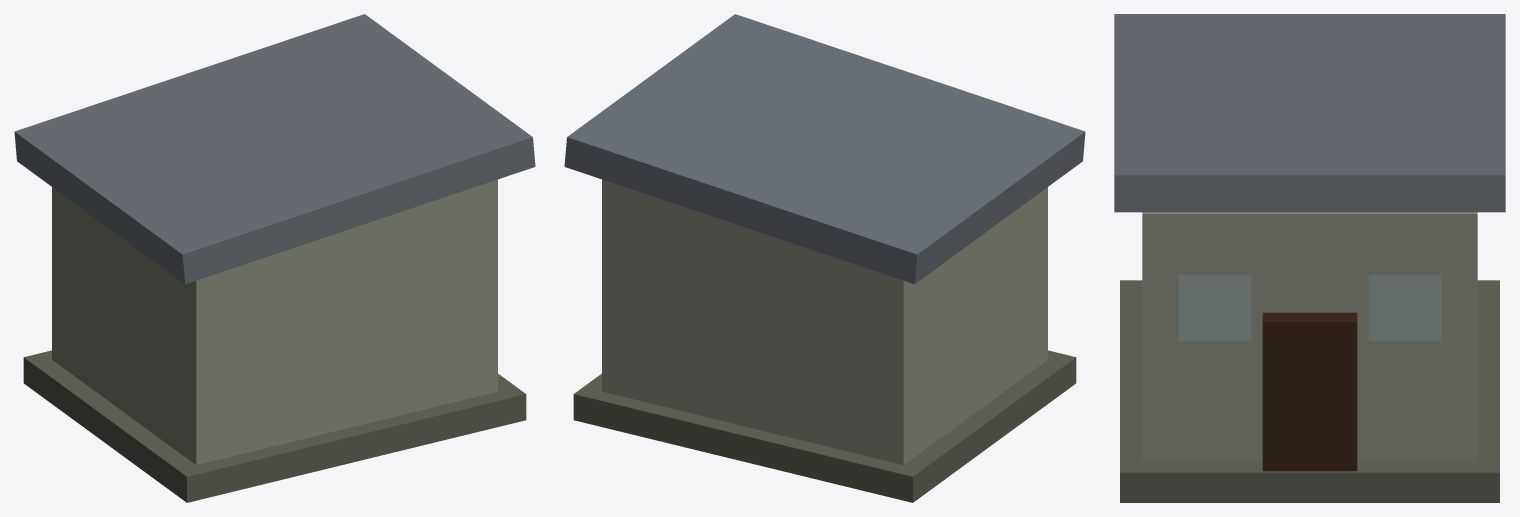
Rendered from concrete-building.glb.
3 renders of one model, left to right at view 1: azimuth 30°, elevation 25°; view 2: azimuth 150°, elevation 25°; view 3: azimuth 270°, elevation 25°, orthographic. The views are drawn at different scales.
Visible parts, largest first — view 1: walls, roof, foundation; view 2: walls, roof, foundation; view 3: roof, walls, foundation, frontDoor, windowLeft, windowRight.
Boxes of the visible parts, <box> form: walls: <box>52,179,497,465</box>; roof: <box>14,14,535,284</box>; foundation: <box>23,350,526,502</box>; walls: <box>602,179,1047,465</box>; roof: <box>564,14,1085,284</box>; foundation: <box>573,350,1076,502</box>; roof: <box>1114,14,1505,212</box>; walls: <box>1142,212,1477,461</box>; foundation: <box>1120,280,1499,502</box>; frontDoor: <box>1262,312,1357,471</box>; windowLeft: <box>1179,275,1250,340</box>; windowRight: <box>1369,275,1440,340</box>.
Bounding box in the file's own units: 1.7 × 1.3 × 1.4.
